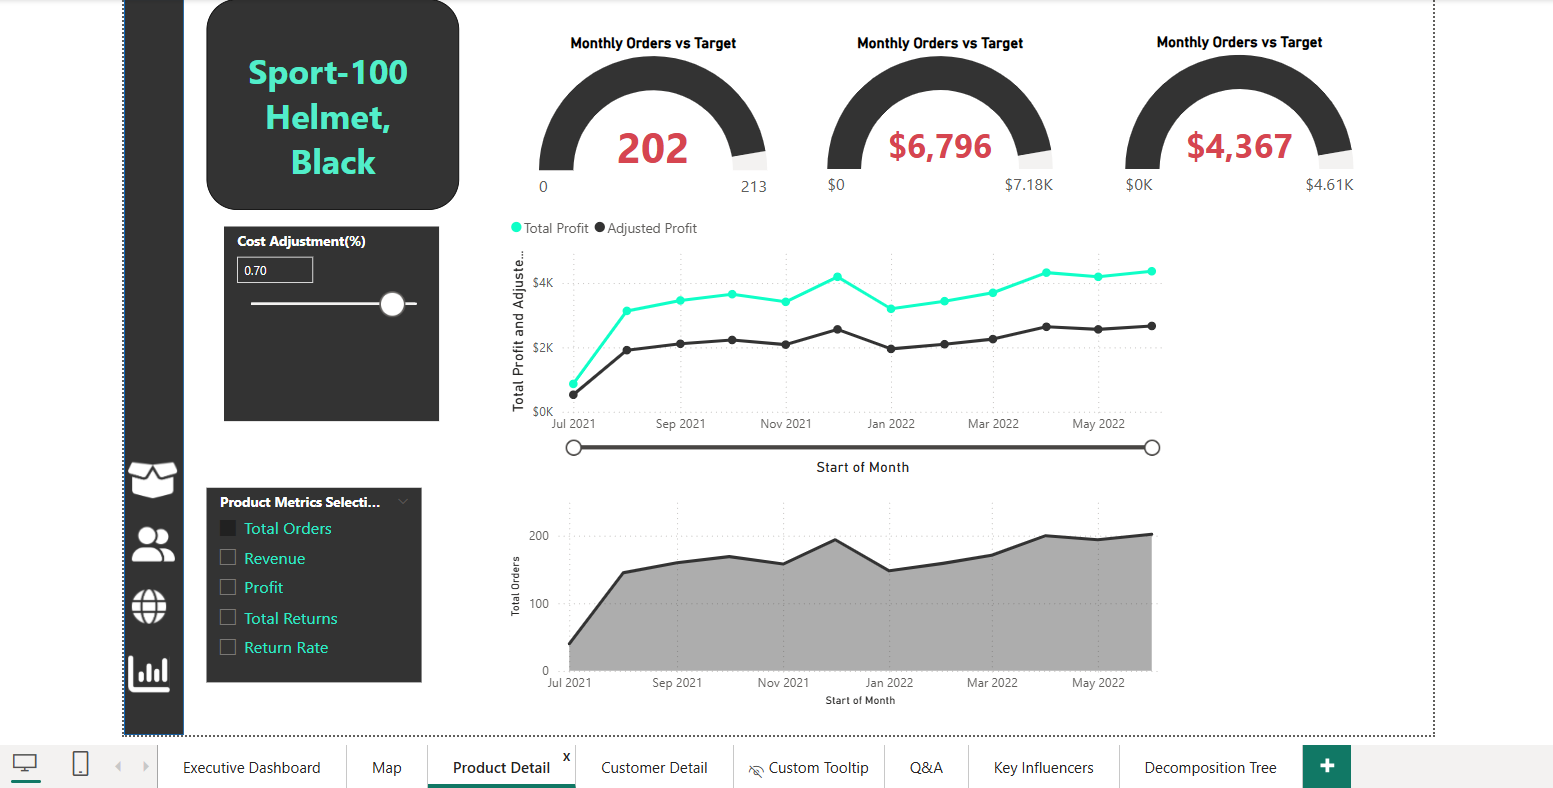

The dashboard page shown, as its layout file describes it:
{"tool":"powerbi","page":{"name":"Product Detail","canvas":[1280,720],"ordinal":2},"visuals":[{"type":"card","fields":{"Values":["Min(Product Lookup.ProductName)"]},"box":[80.7,0,247,206.7],"z":0},{"type":"gauge","title":"Monthly Orders vs Target","fields":{"Y":["Measure Table.Total Orders"],"MaxValue":["Measure Table.Order Target"]},"box":[381.5,34.2,272.7,170],"z":1000},{"type":"gauge","title":"Monthly Orders vs Target","fields":{"Y":["Measure Table.Revenue"],"MaxValue":["Measure Table.Revenue Target"]},"box":[670.1,34.2,256.8,168.8],"z":2000},{"type":"gauge","title":"Monthly Orders vs Target","fields":{"Y":["Measure Table.Total Profit"],"MaxValue":["Measure Table.Profit Target"]},"box":[961.1,33,260.5,170],"z":3000},{"type":"shape","box":[0,0,58.7,720.2],"z":4000},{"type":"actionButton","box":[0,635.9,58.7,48.9],"z":5000},{"type":"actionButton","box":[3.7,573.5,50.1,41.6],"z":6000},{"type":"actionButton","box":[3.7,507.5,50.1,51.4],"z":7000},{"type":"actionButton","box":[0,442.7,58.7,56.3],"z":8000},{"type":"slicer","fields":{"Values":["Product Metrics Selection.Product Metrics Selection"]},"box":[80.7,478.1,210.3,190.8],"z":9000},{"type":"slicer","fields":{"Values":["Cost Adjustment(%).Cost Adjustment(%)"]},"box":[98.2,222.1,210,190.4],"z":10000},{"type":"lineChart","fields":{"Category":["Calendar Lookup.Year","Calendar Lookup.Start of Month","Calendar Lookup.Start of Week","Calendar Lookup.Date"],"Y":["Measure Table.Total Profit","Measure Table.Adjusted Profit"]},"box":[373.5,203,663.7,267.7],"z":11000},{"type":"areaChart","fields":{"Y":["Measure Table.Total Orders"],"Category":["Calendar Lookup.Year","Calendar Lookup.Start of Month","Calendar Lookup.Start of Week","Calendar Lookup.Date"]},"box":[373.5,478.1,663.7,219.1],"z":12000}]}

Visuals, with their boxes on the page's 1280x720 design canvas (x1, y1, x2, y2). These are canvas units, not pixel positions in the 1553x788 screenshot, which may show the page scaled, cropped or inside an application window:
card - Min(Product Lookup.ProductName): rect(81, 0, 328, 207)
"Monthly Orders vs Target" gauge: rect(382, 34, 654, 204)
"Monthly Orders vs Target" gauge: rect(670, 34, 927, 203)
"Monthly Orders vs Target" gauge: rect(961, 33, 1222, 203)
shape: rect(0, 0, 59, 720)
actionButton: rect(0, 636, 59, 685)
actionButton: rect(4, 574, 54, 615)
actionButton: rect(4, 508, 54, 559)
actionButton: rect(0, 443, 59, 499)
slicer - Product Metrics Selection.Product Metrics Selection: rect(81, 478, 291, 669)
slicer - Cost Adjustment(%).Cost Adjustment(%): rect(98, 222, 308, 412)
lineChart - Calendar Lookup.Year x Calendar Lookup.Start of Month: rect(374, 203, 1037, 471)
areaChart - Measure Table.Total Orders x Calendar Lookup.Year: rect(374, 478, 1037, 697)
